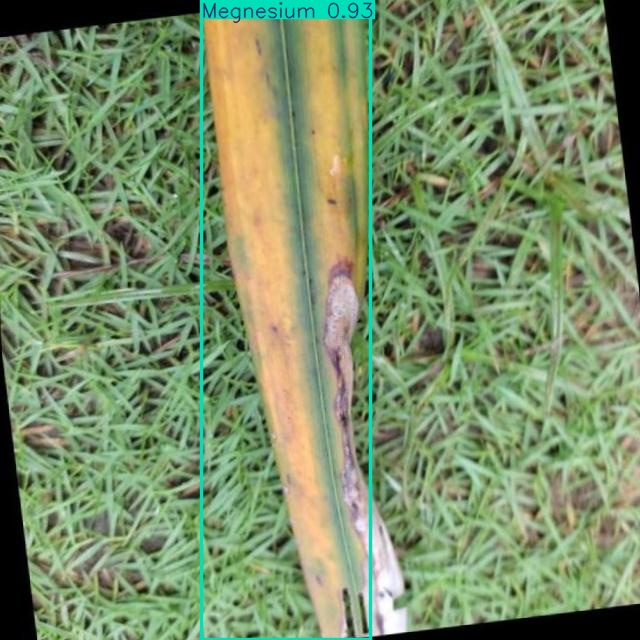Megnesium: (202, 0, 370, 640)
